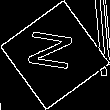N_E: (27, 31, 83, 79)
